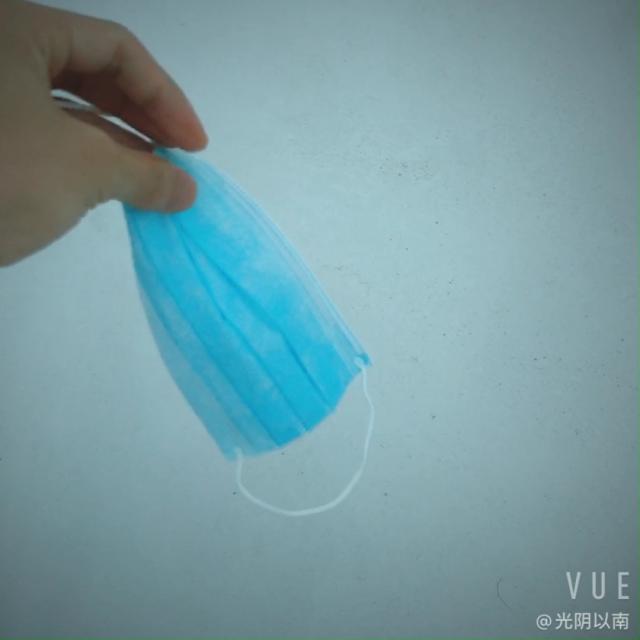face mask: (102, 93, 394, 455)
